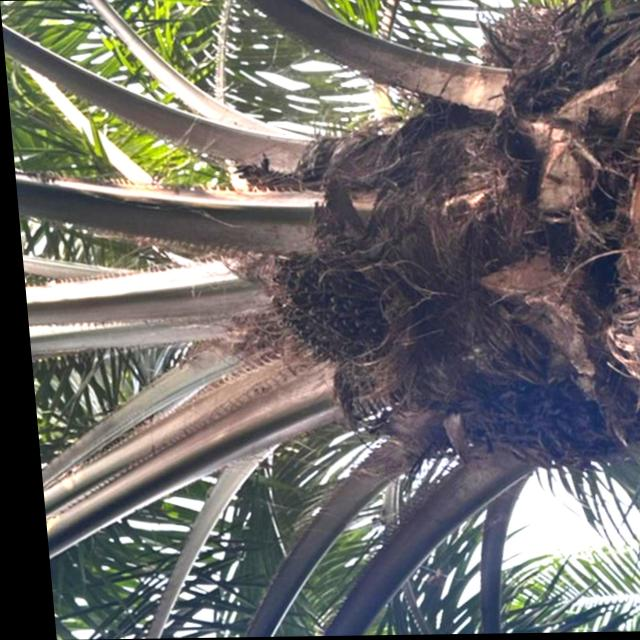unripe: (262, 246, 398, 375)
